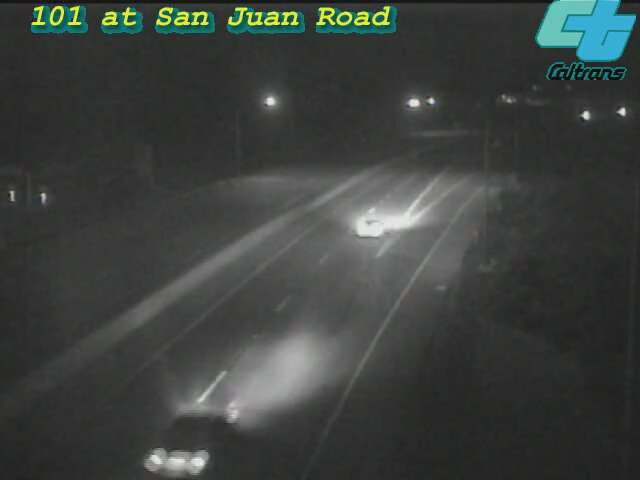vehicle: (128, 389, 238, 480), (329, 188, 409, 268), (561, 91, 611, 141), (597, 87, 640, 137)
